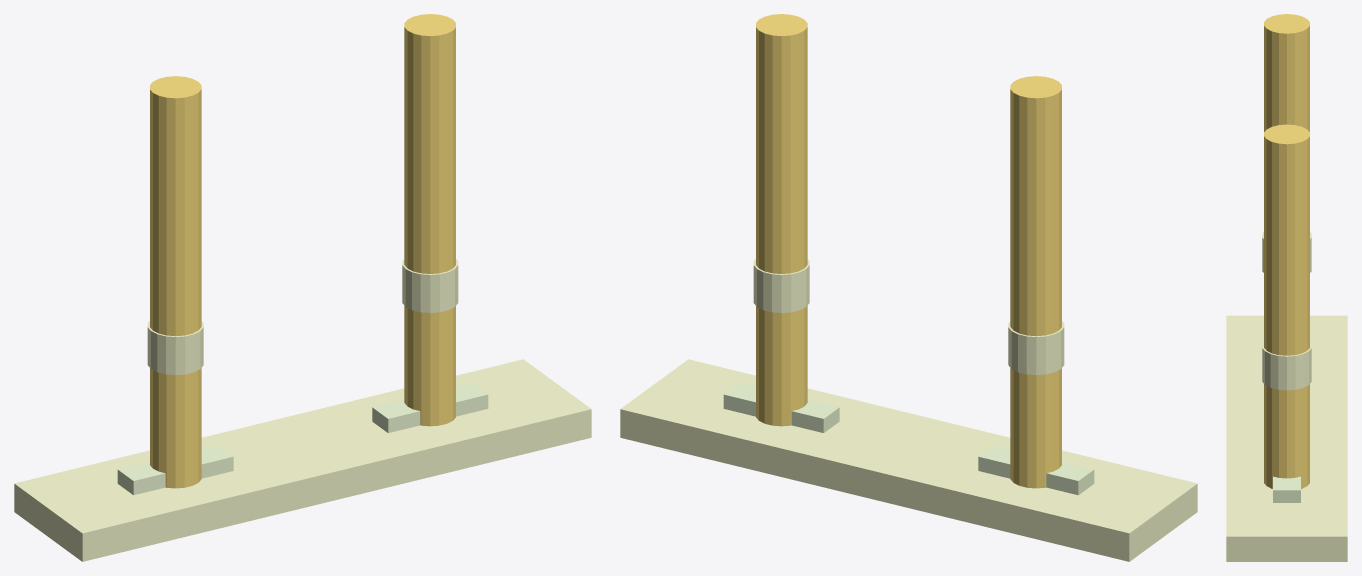
File: furniture_curb_separator_flexpost_pair.glb
3 renders of one model, left to right at view 1: azimuth 30°, elevation 25°; view 2: azimuth 150°, elevation 25°; view 3: azimuth 270°, elevation 25°, orthographic. The views are drawn at different scales.
Parts seen in each view (by area): view 1: base, post_left, post_right, band_right, band_left, skid_left, skid_right; view 2: base, post_left, post_right, band_right, band_left, skid_left, skid_right; view 3: base, post_right, post_left, band_right, skid_right.
Part boxes in pixels (left/top/right/bottom): base: left=14, top=359, right=591, bottom=561; post_left: left=150, top=76, right=201, bottom=488; post_right: left=404, top=14, right=455, bottom=426; band_right: left=402, top=259, right=458, bottom=312; band_left: left=147, top=321, right=203, bottom=375; skid_left: left=117, top=445, right=233, bottom=495; skid_right: left=372, top=383, right=488, bottom=432; base: left=620, top=359, right=1197, bottom=561; post_left: left=1010, top=76, right=1061, bottom=488; post_right: left=756, top=14, right=807, bottom=426; band_right: left=753, top=259, right=809, bottom=312; band_left: left=1008, top=321, right=1064, bottom=375; skid_left: left=978, top=445, right=1094, bottom=495; skid_right: left=723, top=383, right=839, bottom=432; base: left=1226, top=315, right=1347, bottom=561; post_right: left=1264, top=124, right=1309, bottom=488; post_left: left=1264, top=14, right=1309, bottom=131; band_right: left=1262, top=342, right=1311, bottom=390; skid_right: left=1273, top=476, right=1300, bottom=502.
Size of the model in its own units: 1.12 by 0.88 by 0.26.
